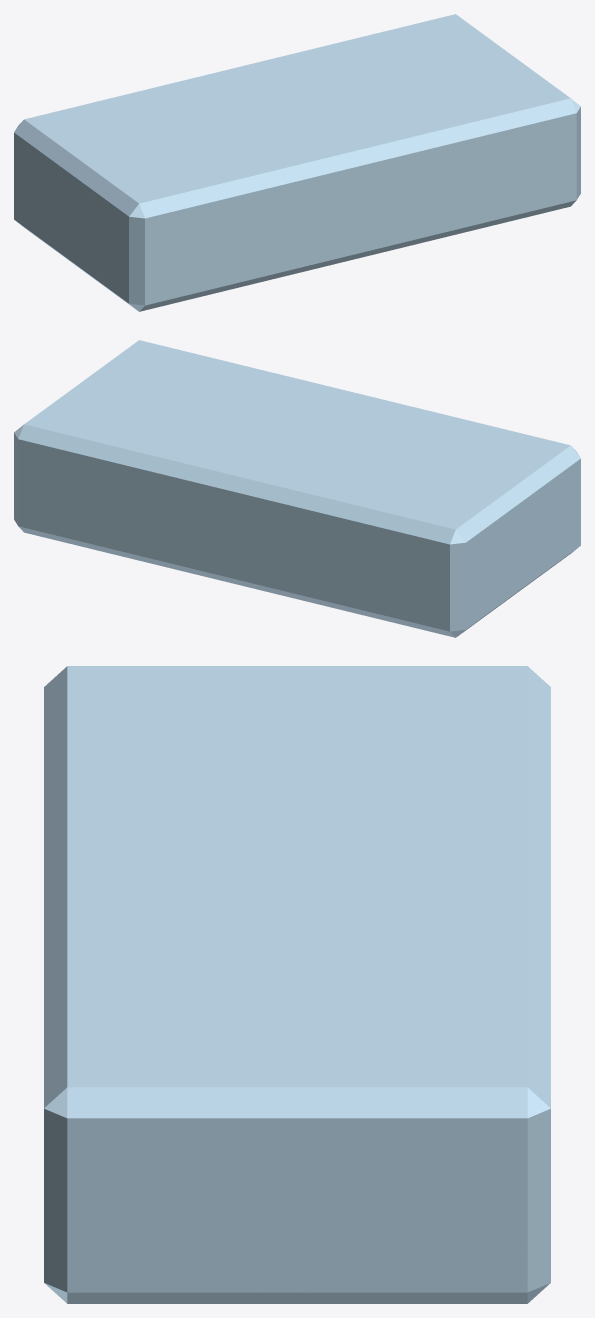
File: R4B_Plate1x2_LOD1.glb
3 views of the same model, one above another, from view 1: azimuth 30°, elevation 25°; view 2: azimuth 150°, elevation 25°; view 3: azimuth 270°, elevation 25° (orthographic). The views are drawn at different scales.
Parts seen in each view (by area): view 1: R4B_Plate1x2_LOD1; view 2: R4B_Plate1x2_LOD1; view 3: R4B_Plate1x2_LOD1.
Boxes of the visible parts, left/top/right/bottom form: R4B_Plate1x2_LOD1: left=14, top=14, right=580, bottom=311; R4B_Plate1x2_LOD1: left=14, top=340, right=580, bottom=637; R4B_Plate1x2_LOD1: left=44, top=666, right=550, bottom=1303.
Size of the model in its own units: 1.07 by 0.245 by 0.52.
